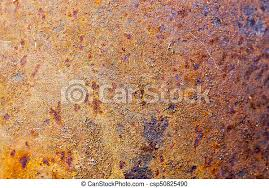rust: (1, 1, 267, 177)
